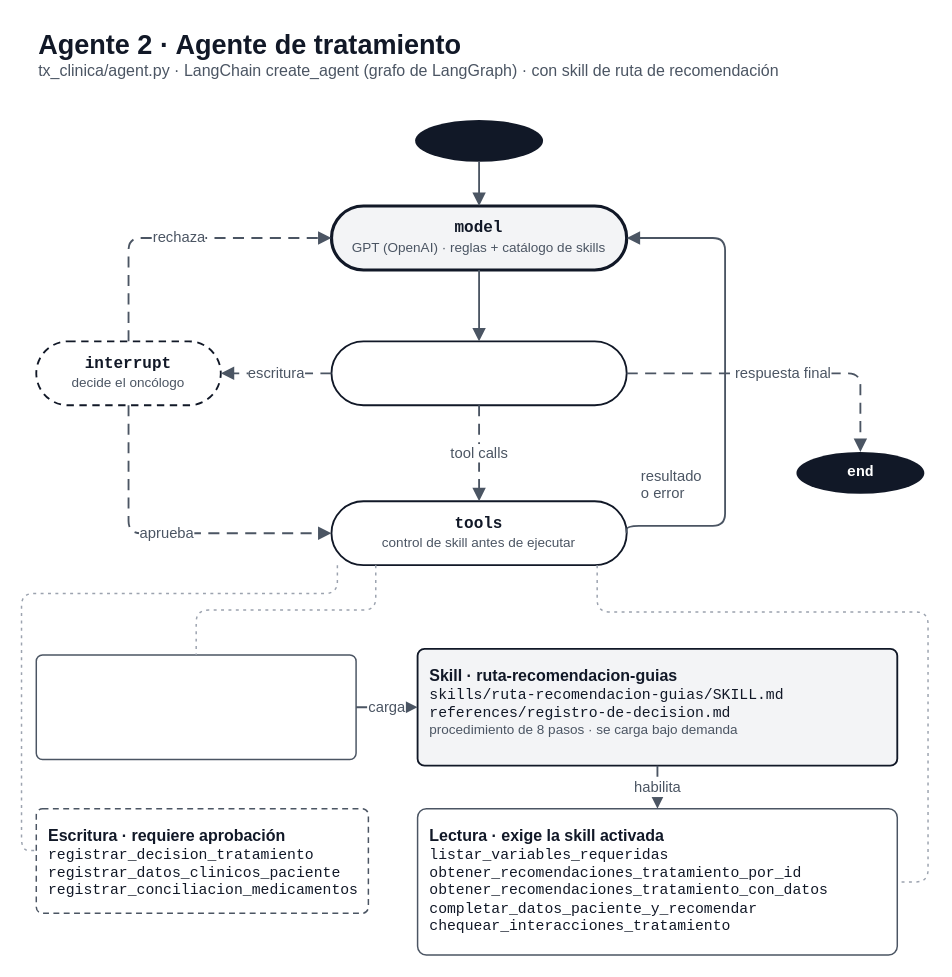
Image size: 952x977. Some labels were removed from this diagram. Each missing label, with the box of its shape:
HumanInTheLoop after_model: (330, 340, 627, 406)
Lectura · libre activar_skill obtener_datos_paciente consultar_medicacion_actual: (35, 654, 356, 760)
start: (415, 119, 542, 161)
